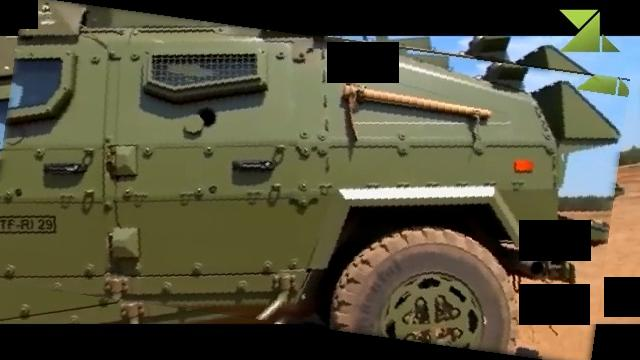MIL_HMMWV: (0, 13, 621, 344)
